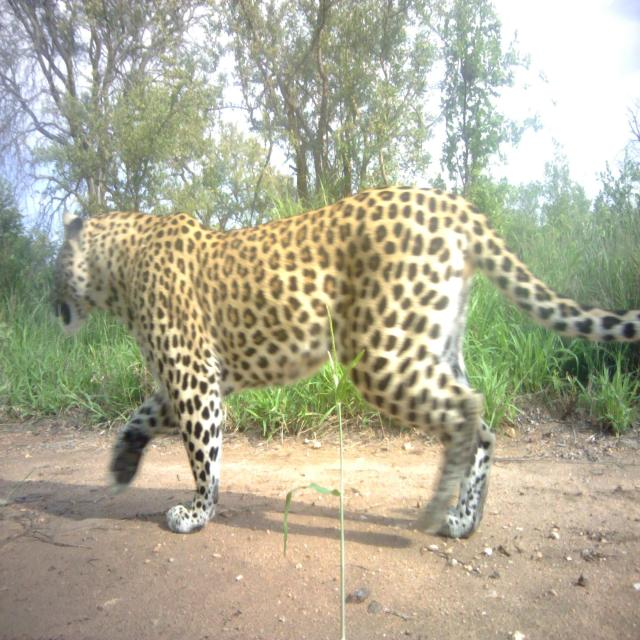Leopard: (45, 99, 640, 529)
